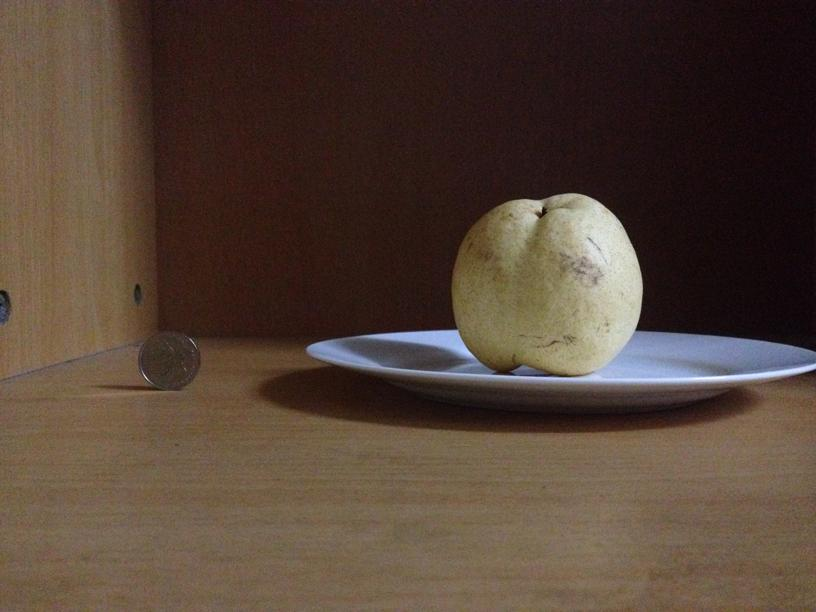coin: (137, 329, 202, 392)
pear: (451, 194, 644, 374)
